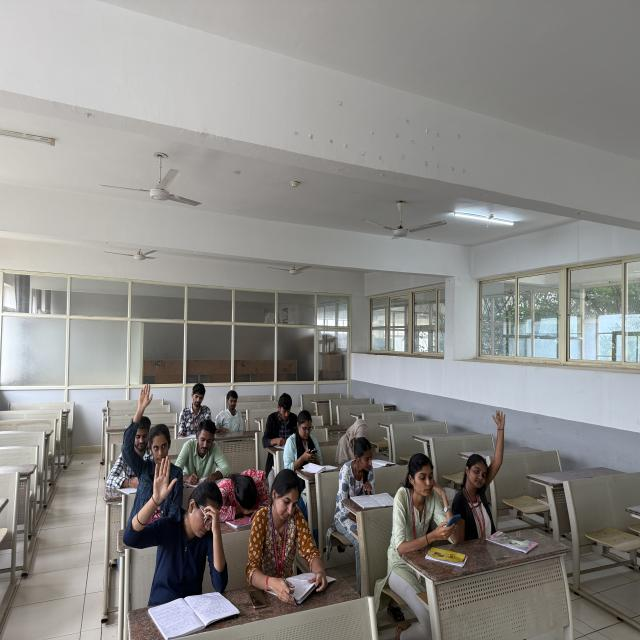Hand Rising: (124, 456, 227, 586), (453, 411, 517, 533), (118, 385, 176, 484)
Reading: (252, 469, 336, 600), (340, 440, 384, 509)
Sleeping: (215, 459, 271, 522)
Using Phone: (391, 450, 460, 541), (282, 410, 328, 472)
Writing: (176, 417, 228, 486)
